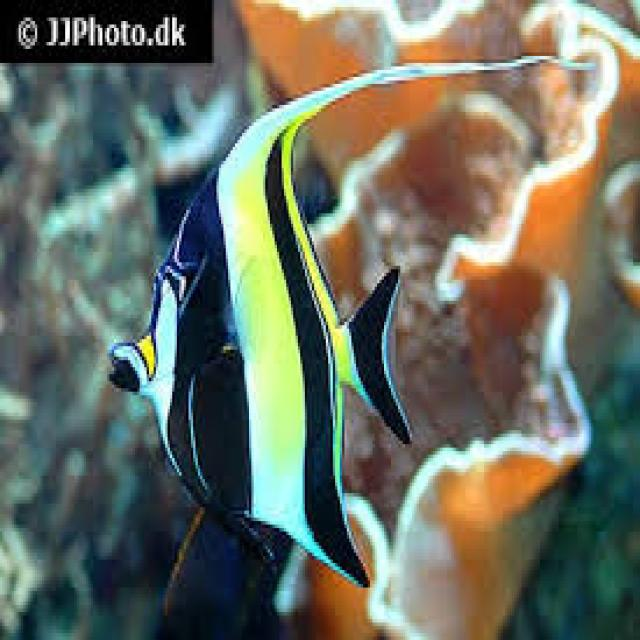MorishIdol: (105, 55, 594, 592)
